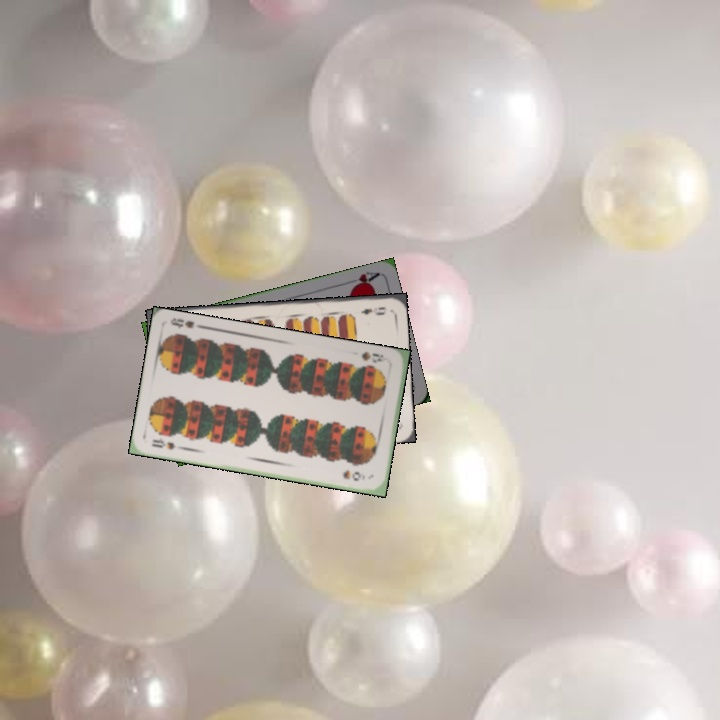E9: (357, 303, 388, 317)
HA: (346, 268, 381, 292)
S8: (148, 434, 186, 452), (357, 347, 390, 365)
